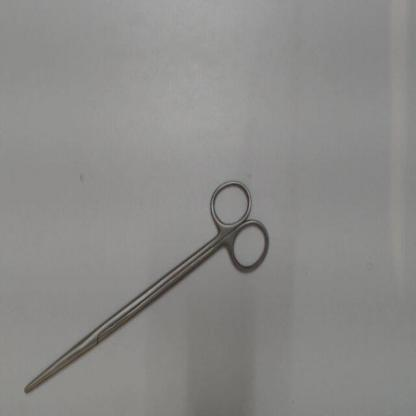9 Metzenbaum Scissors: (21, 169, 276, 399)
